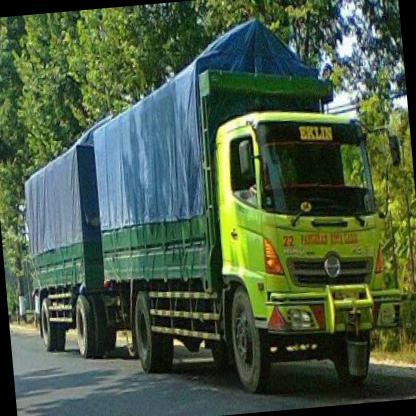truck: (210, 101, 399, 407)
